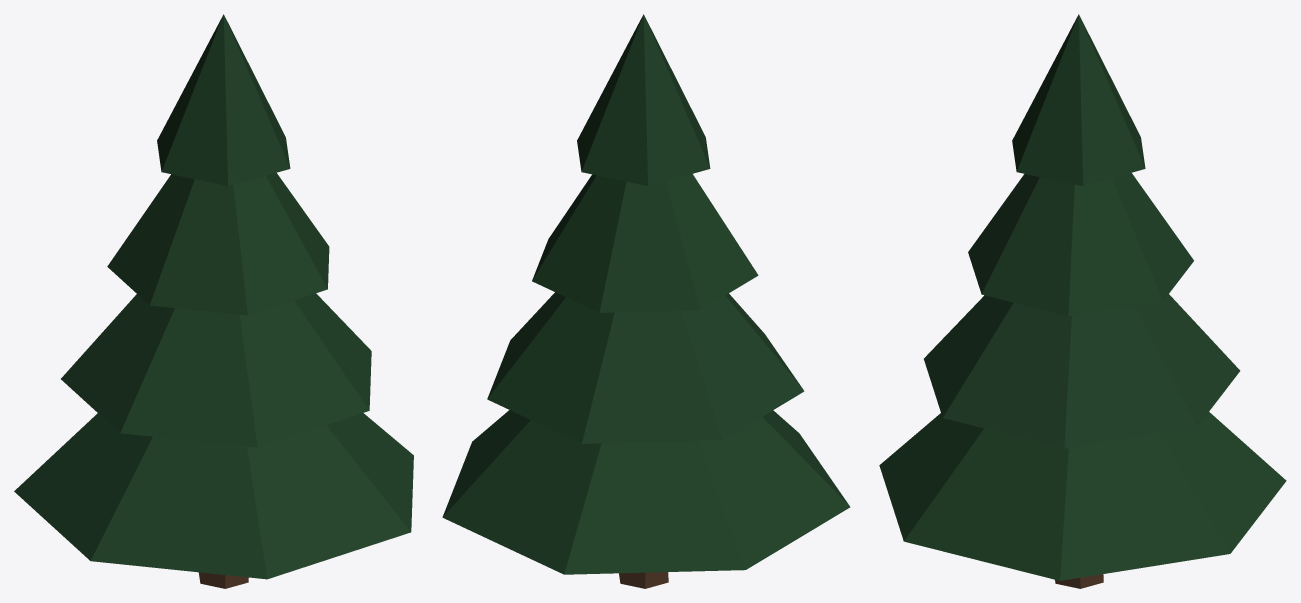
The model's file is pino_mediano.glb.
3 renders of one model, left to right at view 1: azimuth 30°, elevation 25°; view 2: azimuth 150°, elevation 25°; view 3: azimuth 270°, elevation 25°, orthographic.
Visible parts, largest first — view 1: Pine_10; view 2: Pine_10; view 3: Pine_10.
Boxes of the visible parts, box(x1,y1,x2,y2) form: Pine_10: box(14, 14, 413, 588); Pine_10: box(442, 14, 850, 588); Pine_10: box(879, 14, 1286, 588).
Bounding box in the file's own units: 3.59 × 5.5 × 3.6.
